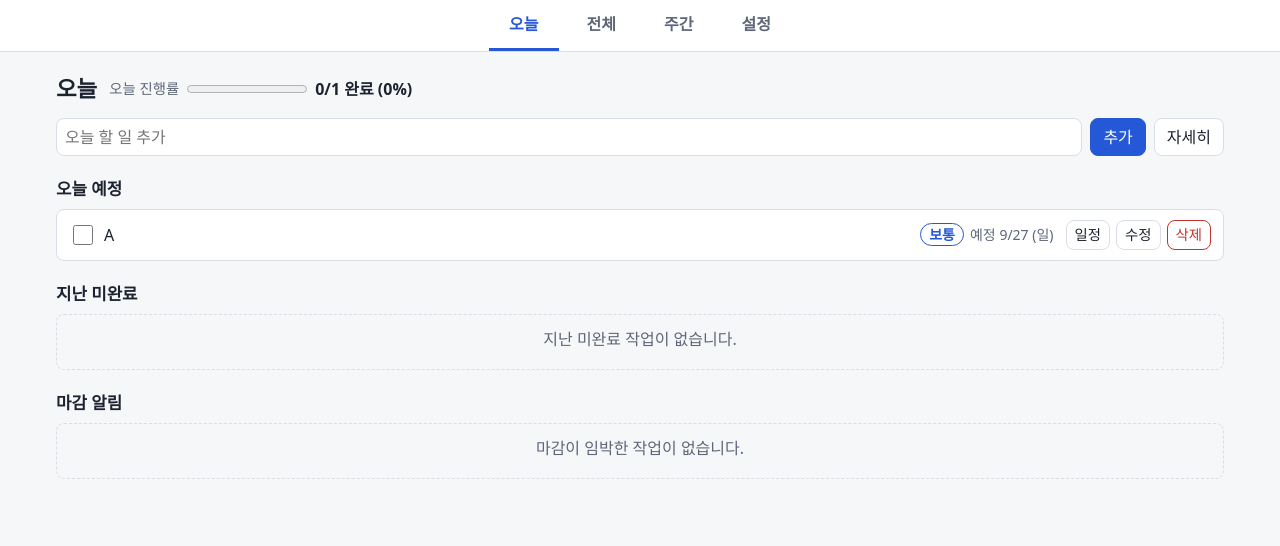
Test: 저장 실패 (AC13) › 배너에 건수가 나오고, 잠긴 작업은 "저장 실패" 배지와 함께 편집이 막힌다
The image size is (1280, 546).
Click the checkbox labelled "A" at (83, 235), box [73,225,93,245]
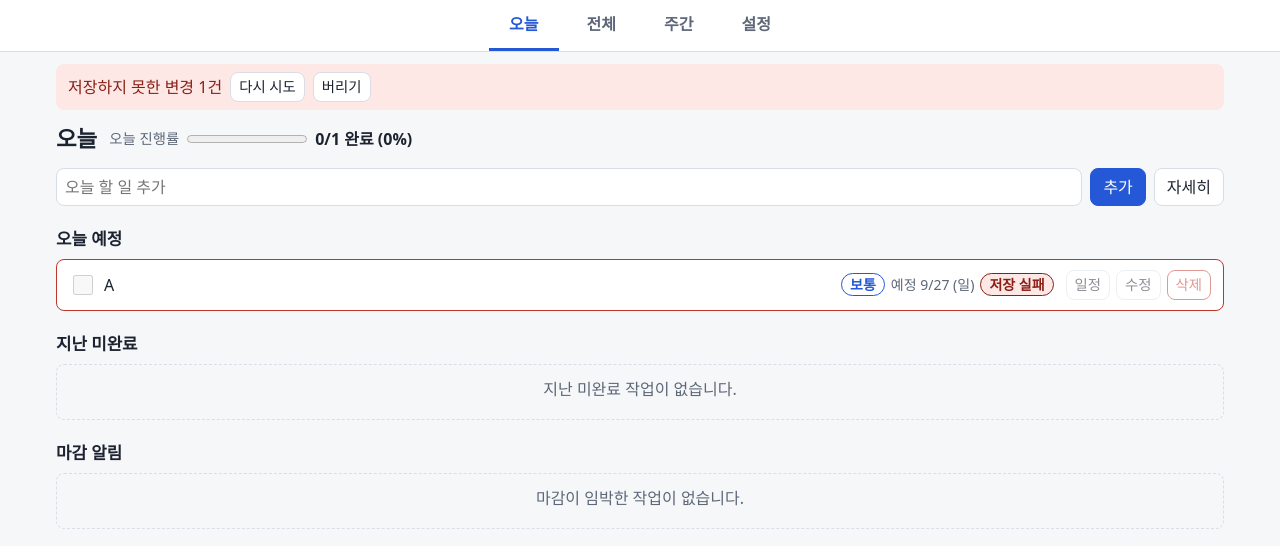
Expected: the message shows "저장하지 못한 변경 1건", [56,64,1224,110]
Expected: the text "저장 실패" is shown, [980,273,1054,296]
Expected: the checkbox labelled "A" is disabled, [73,275,93,295]
Click the button "다시 시도" at (267, 87), box [230,72,305,102]
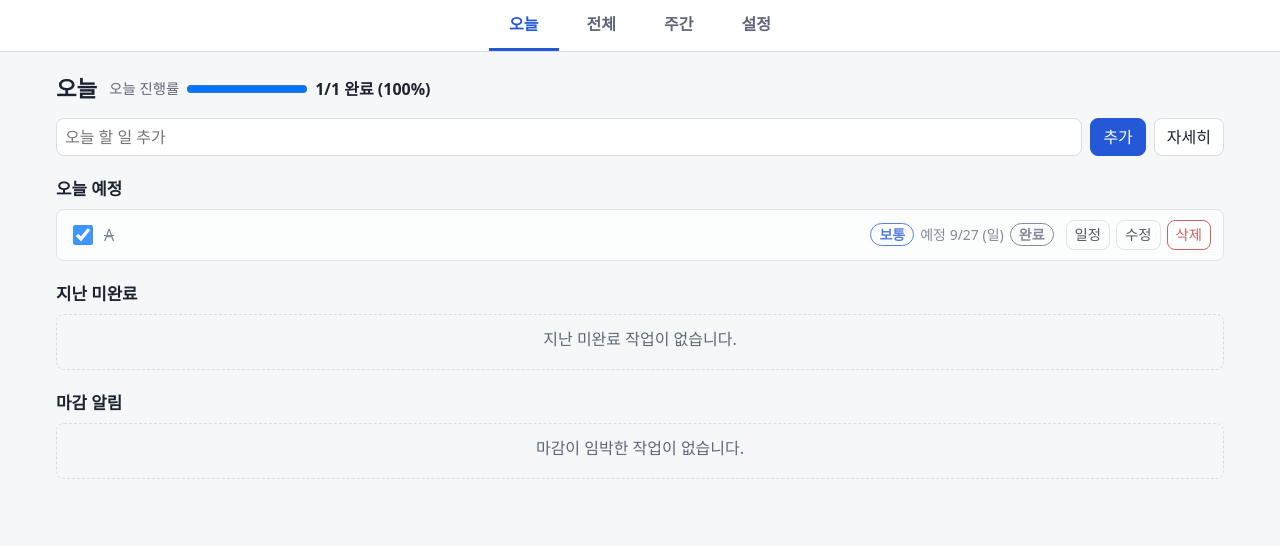
Expected: the checkbox labelled "A" is checked, [73,225,93,245]
Expected: the text "저장 실패" is gone
Expected: the checkbox labelled "A" is enabled, [73,225,93,245]
